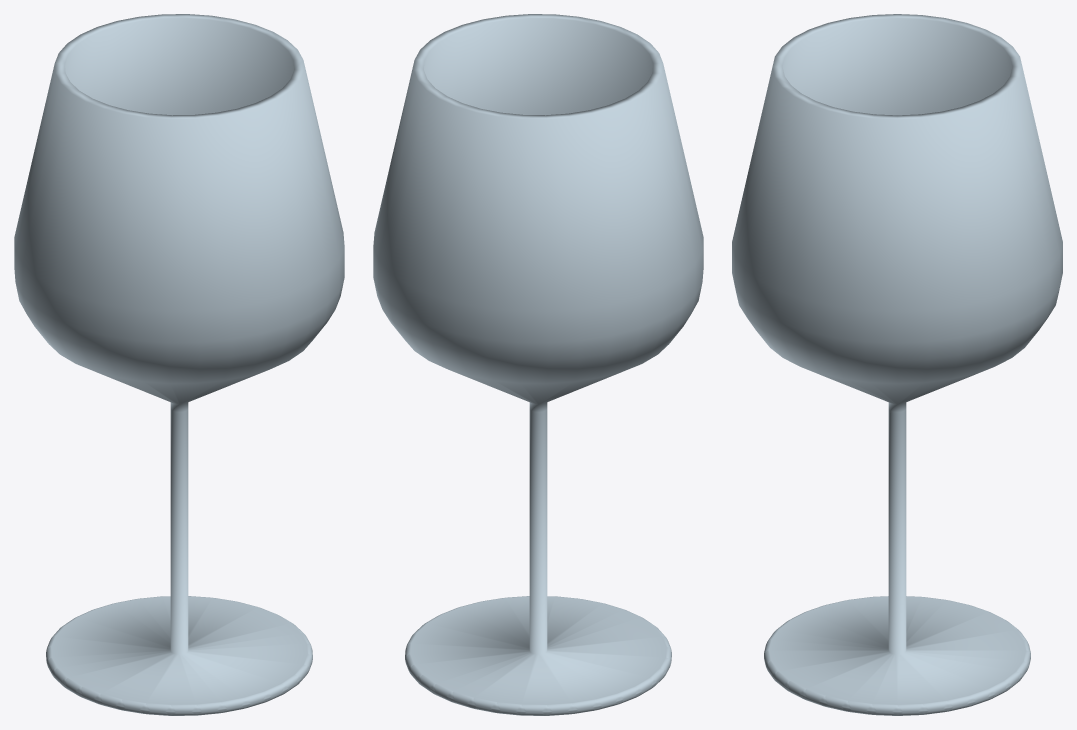
File: glass.fbx
The picture shows the model from 3 angles, left to right: view 1: azimuth 30°, elevation 25°; view 2: azimuth 150°, elevation 25°; view 3: azimuth 270°, elevation 25°; orthographic projection.
Parts seen in each view (by area): view 1: glass; view 2: glass; view 3: glass.
Boxes of the visible parts, <box> form: glass: <box>14,14,344,715</box>; glass: <box>373,14,703,715</box>; glass: <box>732,14,1062,715</box>.
Bounding box in the file's own units: 27.15 × 53.83 × 27.15.
